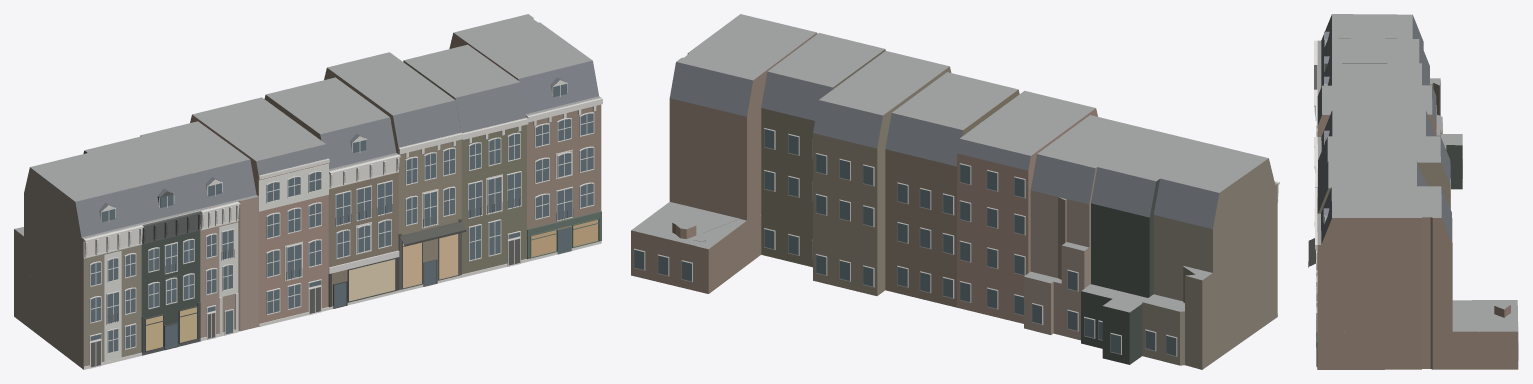
Rendered from chunk-face-hooft-13-27.glb.
The picture shows the model from 3 angles, left to right: view 1: azimuth 30°, elevation 25°; view 2: azimuth 150°, elevation 25°; view 3: azimuth 270°, elevation 25°; orthographic projection. The views are drawn at different scales.
Parts seen in each view (by area): view 1: face-hooft-13-27; view 2: face-hooft-13-27; view 3: face-hooft-13-27.
Part boxes in pixels (x1,y1,x2,y2): face-hooft-13-27: (14,14,602,369); face-hooft-13-27: (631,14,1279,369); face-hooft-13-27: (1308,14,1518,369).
Bounding box in the file's own units: 55.91 × 18.22 × 22.85.
